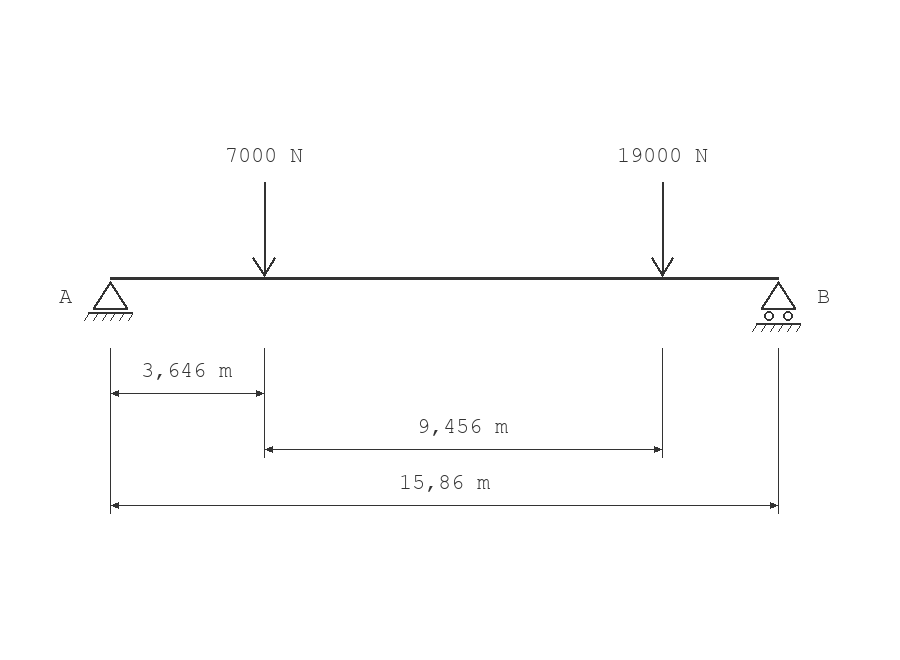pin_support: (84, 281, 133, 321)
point_load: (252, 182, 276, 277), (651, 182, 674, 277)
roller_support: (752, 281, 801, 332)
